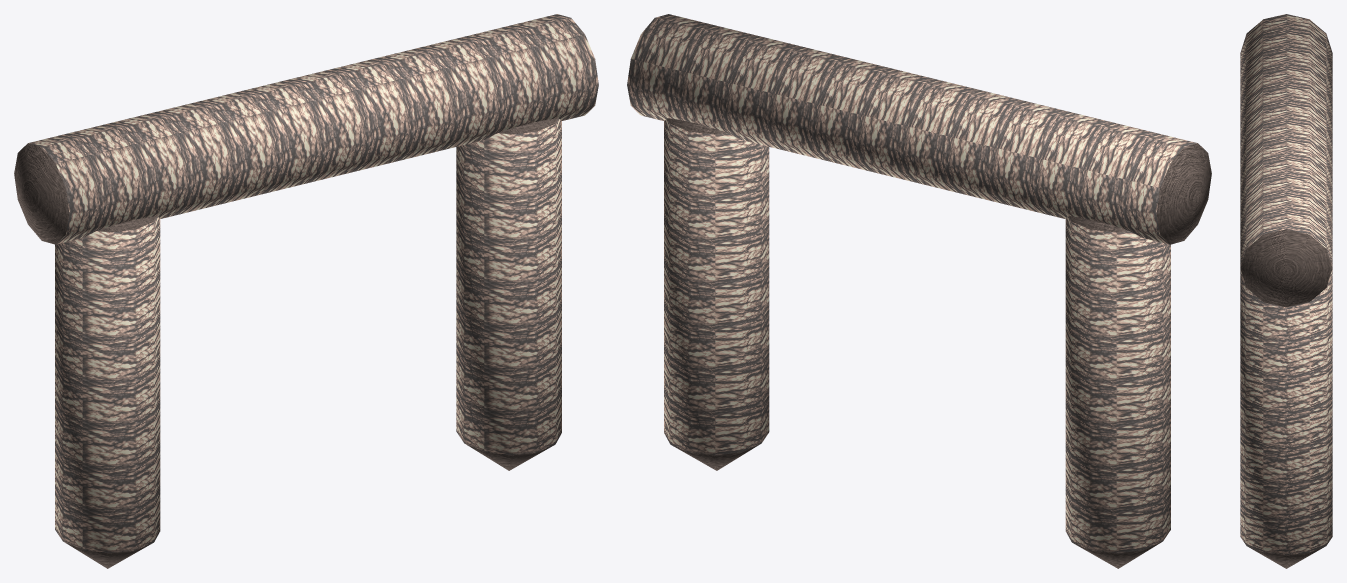
The model's file is RoadArch.fbx.
3 views of the same model, side by side, from view 1: azimuth 30°, elevation 25°; view 2: azimuth 150°, elevation 25°; view 3: azimuth 270°, elevation 25° (orthographic). The views are drawn at different scales.
Visible parts, largest first — view 1: RoadArch; view 2: RoadArch; view 3: RoadArch.
Boxes of the visible parts, x1=… form: RoadArch: x1=14, y1=14, x2=598, y2=568; RoadArch: x1=627, y1=14, x2=1211, y2=568; RoadArch: x1=1240, y1=14, x2=1332, y2=568.
Bounding box in the file's own units: 1448 × 1096 × 251.
